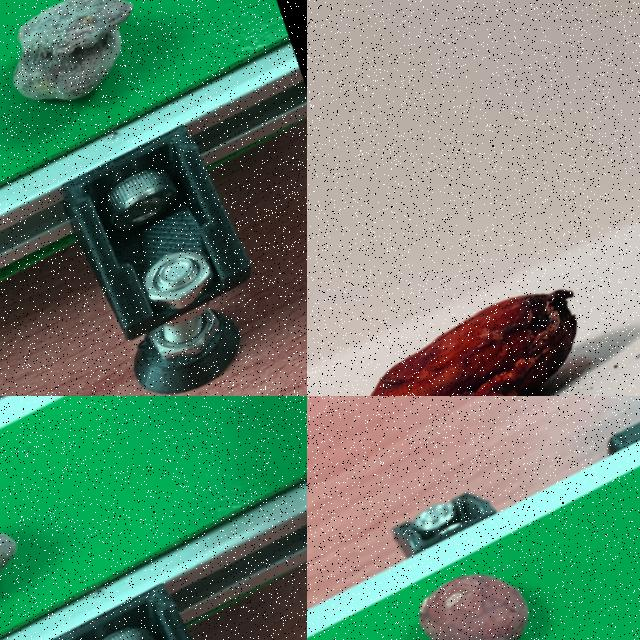Agglomerated_cocoabeans: (307, 226, 639, 395), (0, 0, 231, 219), (0, 441, 105, 639)
Fine_cocoabeans: (337, 521, 607, 639)
